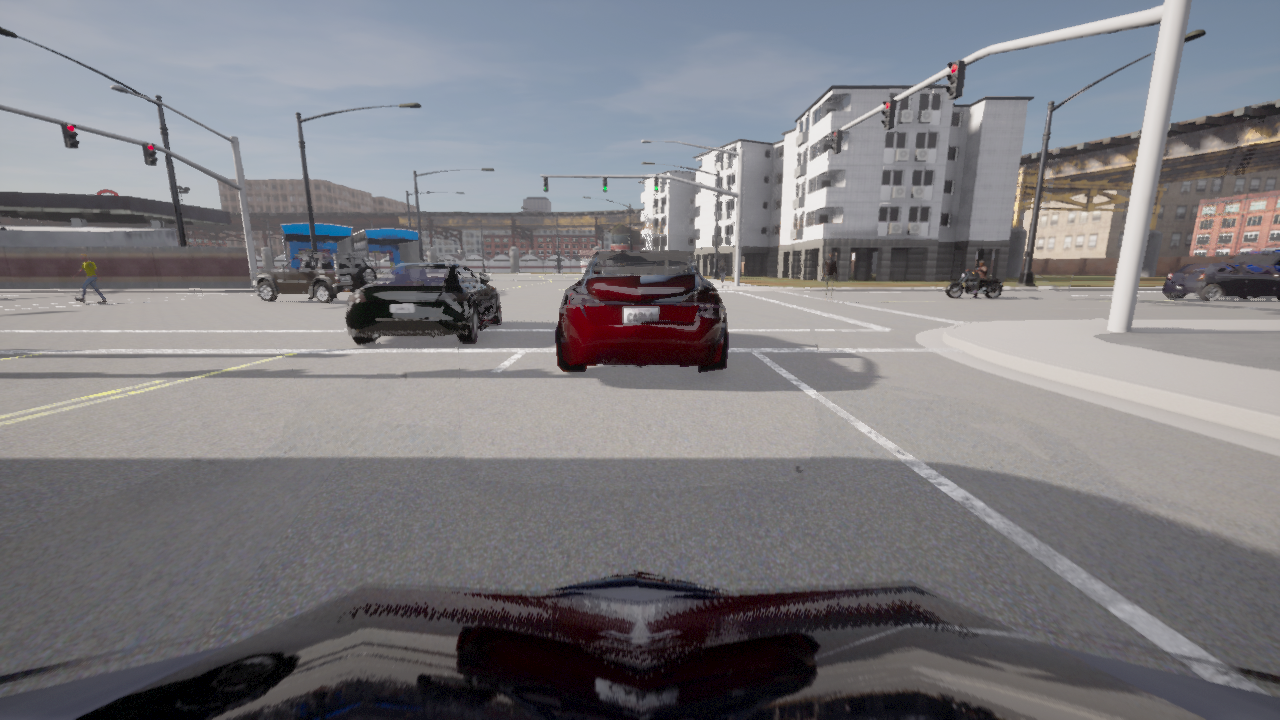cyclist: (0, 569, 1279, 719), (555, 251, 727, 371), (344, 263, 500, 345), (251, 252, 376, 303), (1162, 262, 1279, 301), (1220, 250, 1279, 298), (944, 268, 1003, 298)
pedestrian: (72, 253, 106, 302), (821, 251, 837, 301), (718, 259, 725, 282)
